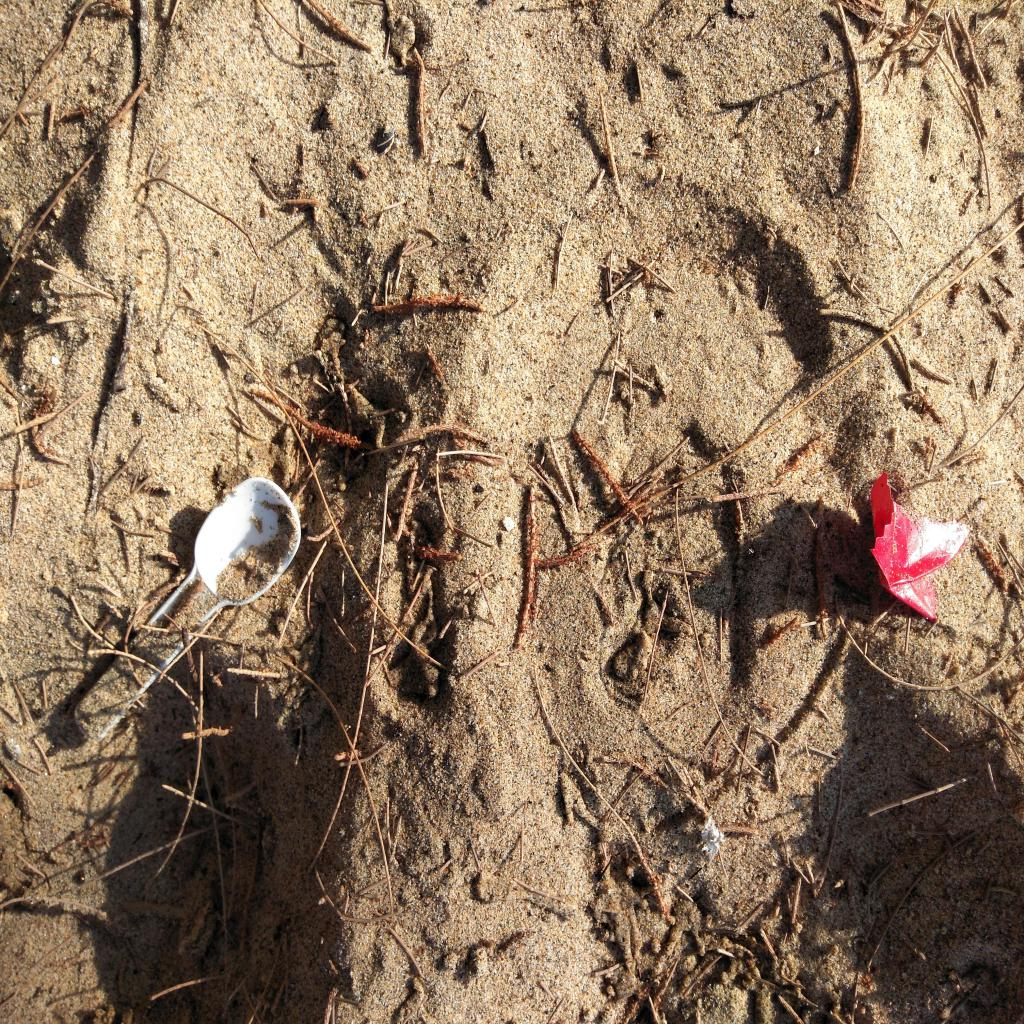Other plastic: (870, 472, 972, 623)
Plastic utensils: (74, 476, 300, 741)
Unlabeled litter: (702, 812, 724, 860)
